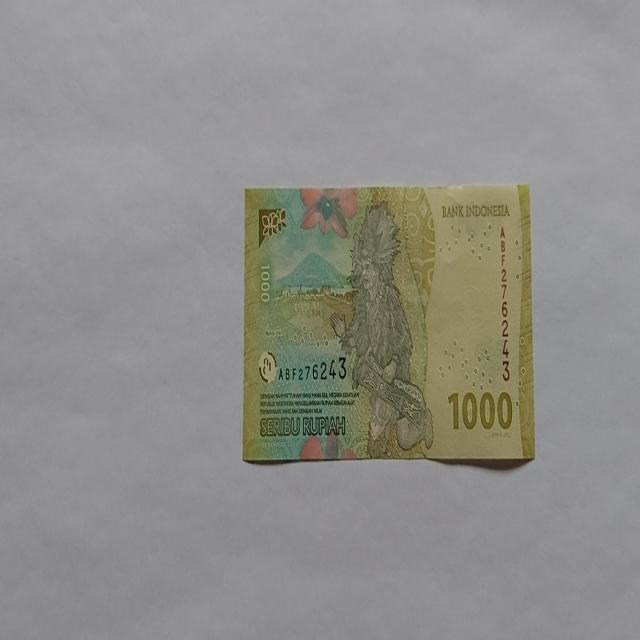seribu rupiah kertas: (242, 182, 534, 464)
